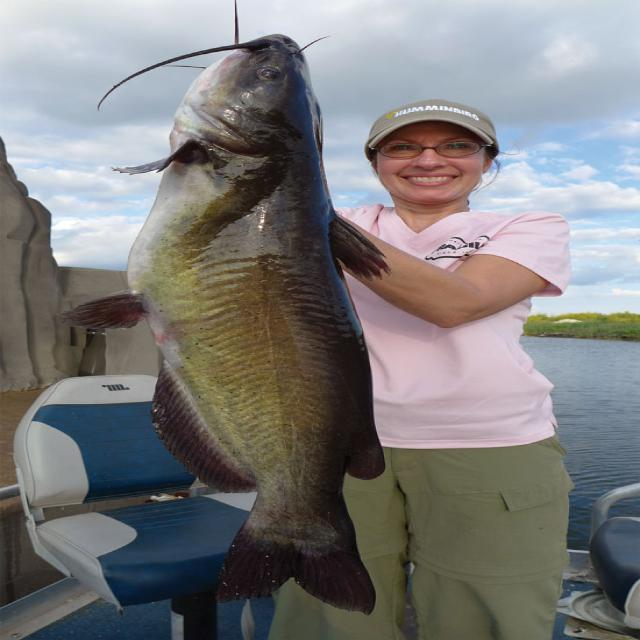Catfish - Blue: (62, 35, 389, 612)
